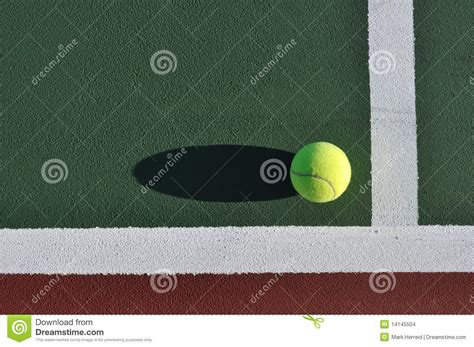tennis_ball: (289, 141, 352, 203)
